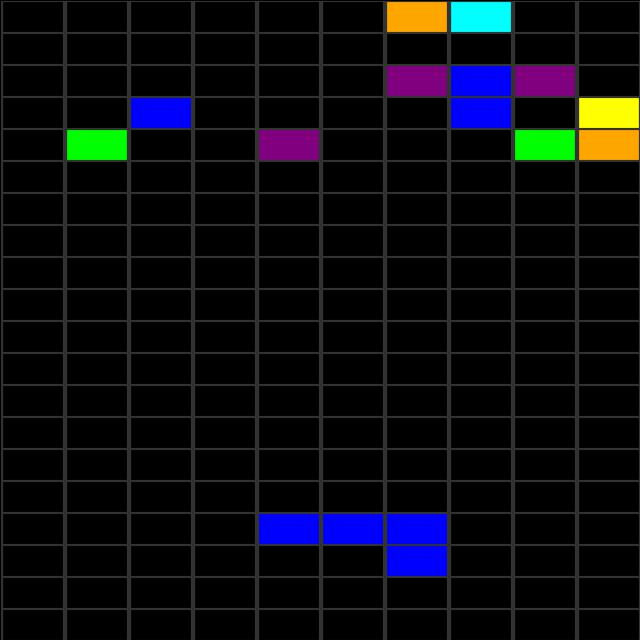Tetrimino_S: (258, 511, 447, 577)
